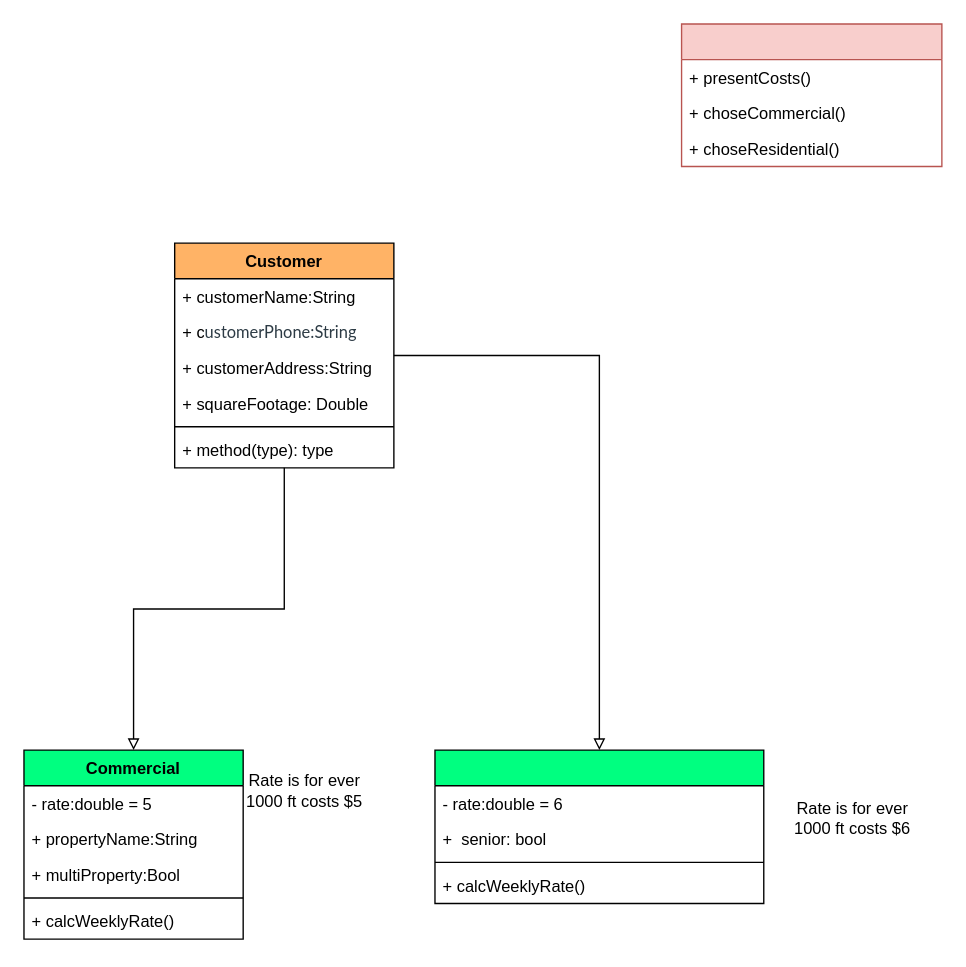
The diagram is 966 pixels wide and 967 high, and some of its shapes have lost their labels. The shapes that lost their labels are listed below. From the top down, each one's box as (x1, y1, x2, y2) in pixels, then its label:
(680, 23, 942, 166): mainCalls
(434, 749, 764, 904): Residential
